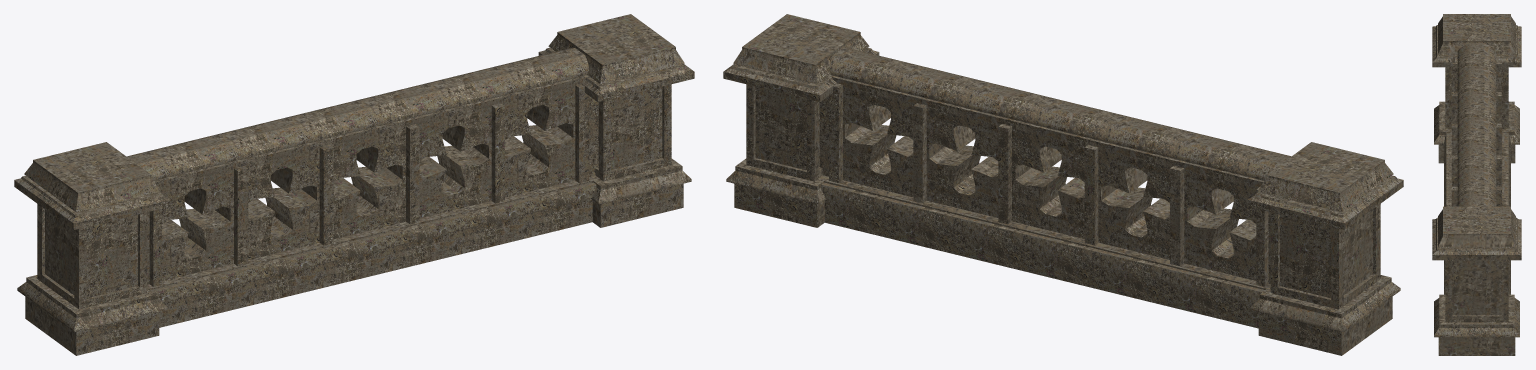
Rendered from fbxFemce.fbx.
The picture shows the model from 3 angles, left to right: view 1: azimuth 30°, elevation 25°; view 2: azimuth 150°, elevation 25°; view 3: azimuth 270°, elevation 25°; orthographic projection. The views are drawn at different scales.
Visible parts, largest first — view 1: Fence; view 2: Fence; view 3: Fence.
Boxes of the visible parts, box(x1,y1,x2,y2) form: Fence: box(14, 14, 694, 355); Fence: box(723, 14, 1403, 355); Fence: box(1432, 14, 1521, 355).
Size of the model in its own units: 6.47 by 1.59 by 1.07.
Materials: 1 (1 with a texture image).
